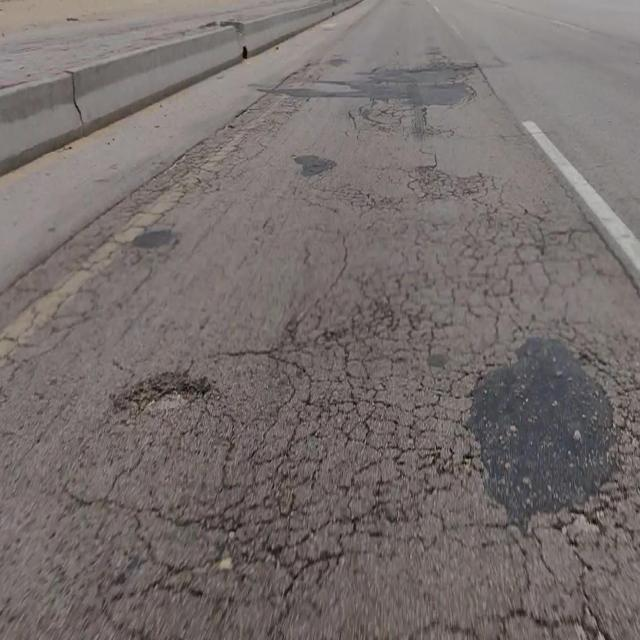Potholes: (110, 372, 213, 418)
